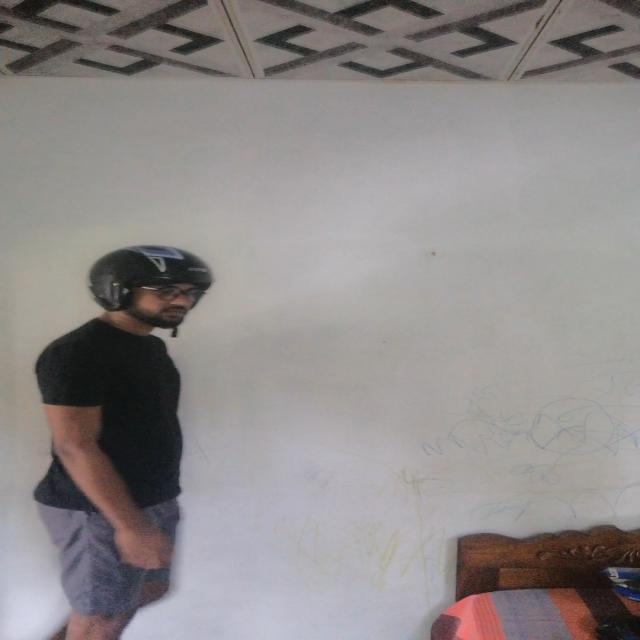Helmet_Wearer: (73, 244, 213, 352)
Person: (25, 242, 228, 640)
